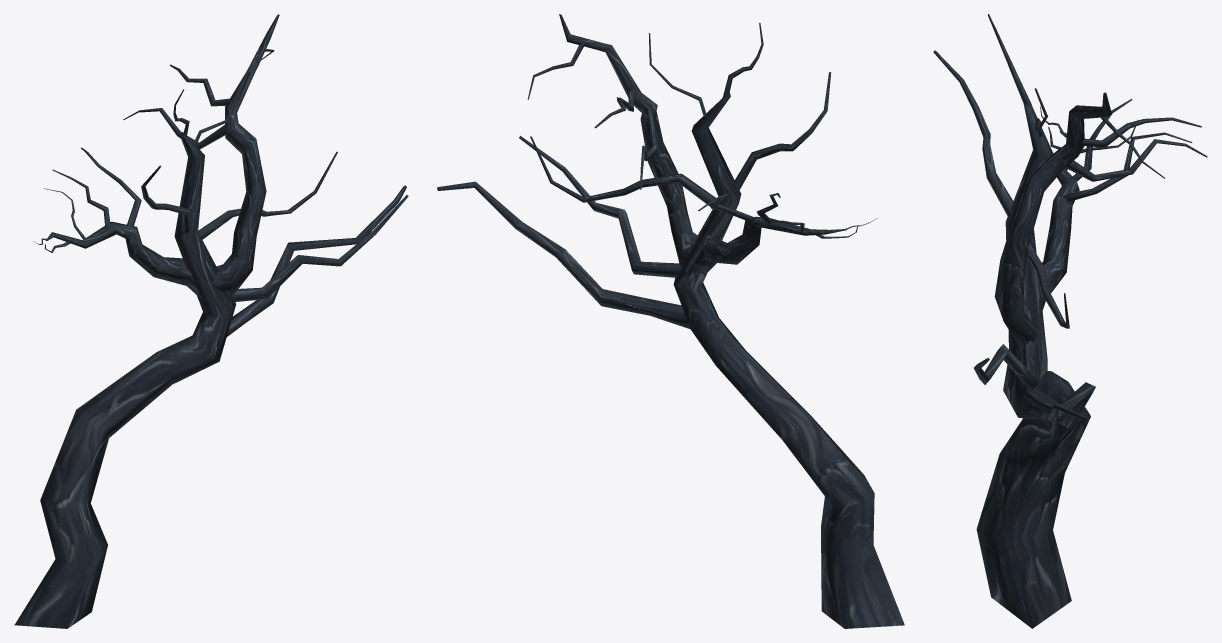
Rendered from deadtree.glb.
3 renders of one model, left to right at view 1: azimuth 30°, elevation 25°; view 2: azimuth 150°, elevation 25°; view 3: azimuth 270°, elevation 25°, orthographic. The views are drawn at different scales.
Parts seen in each view (by area): view 1: icecrown_tree_03_Geoset0; view 2: icecrown_tree_03_Geoset0; view 3: icecrown_tree_03_Geoset0.
Boxes of the visible parts, <box> form: icecrown_tree_03_Geoset0: <box>14,14,408,628</box>; icecrown_tree_03_Geoset0: <box>437,14,904,628</box>; icecrown_tree_03_Geoset0: <box>933,14,1207,628</box>.
Size of the model in its own units: 30.29 by 36.65 by 13.59.
Materials: 1 (1 with a texture image).
